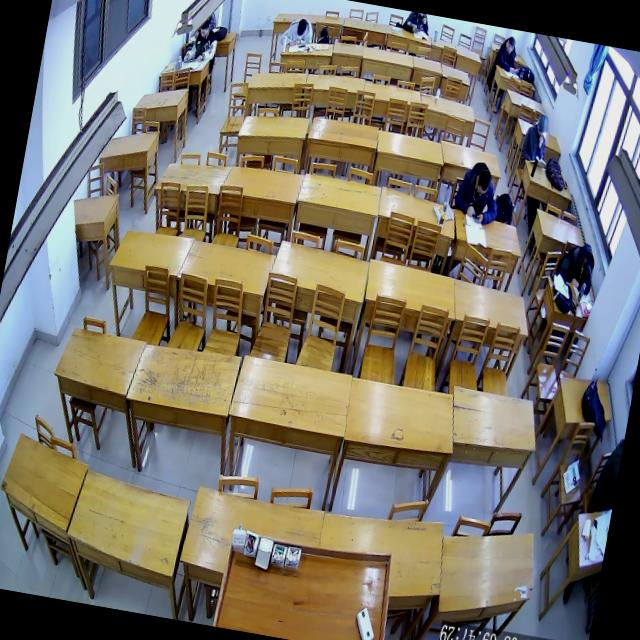bow: (557, 240, 598, 294), (278, 15, 314, 50)
down: (474, 168, 492, 197), (535, 113, 548, 136), (296, 18, 308, 37), (199, 20, 210, 38)
sit: (451, 158, 505, 226), (182, 17, 220, 65), (518, 111, 550, 162), (494, 34, 524, 74)
